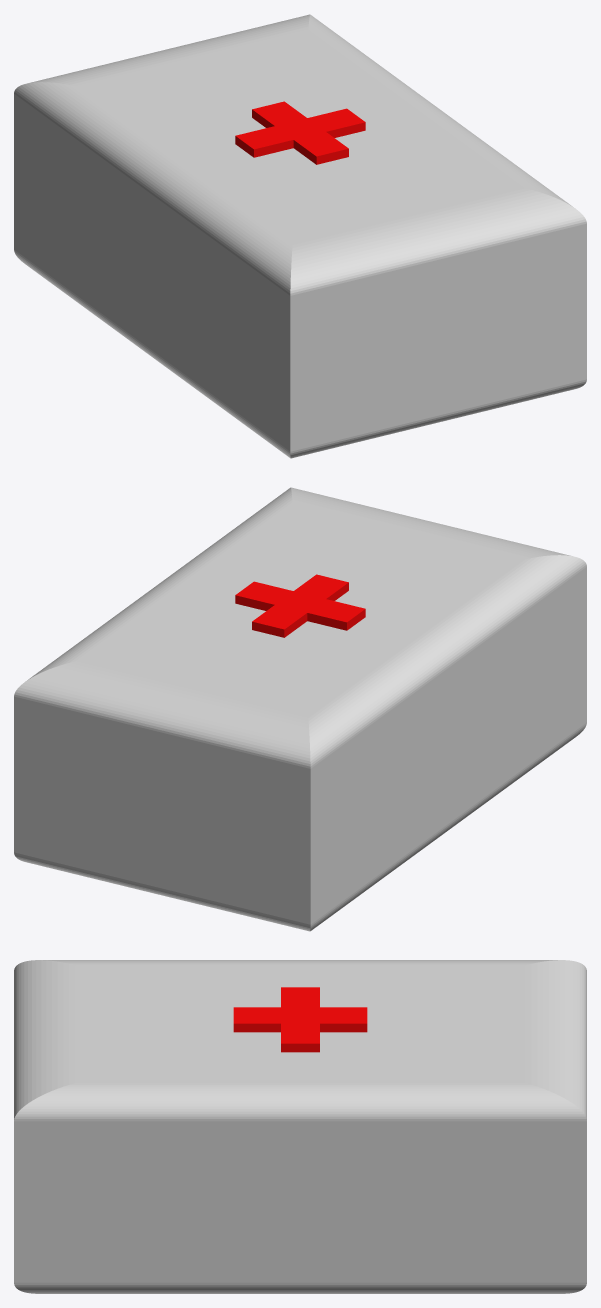
Rendered from med.dae.
The picture shows the model from 3 angles, top to bottom: view 1: azimuth 30°, elevation 25°; view 2: azimuth 150°, elevation 25°; view 3: azimuth 270°, elevation 25°; orthographic projection. The views are drawn at different scales.
Parts seen in each view (by area): view 1: Cube.001; view 2: Cube.001; view 3: Cube.001.
Boxes of the visible parts, x1=… form: Cube.001: x1=14, y1=14, x2=586, y2=458; Cube.001: x1=14, y1=487, x2=586, y2=931; Cube.001: x1=14, y1=960, x2=586, y2=1293.
Bounding box in the file's own units: 2 × 3.23 × 1.38.
